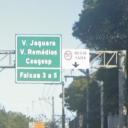speed_limit_50: (64, 50, 72, 60)
